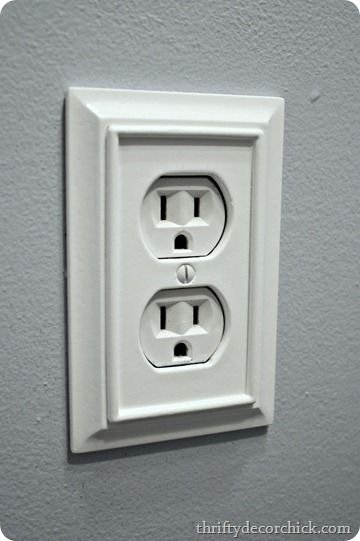outlet: (153, 189, 208, 254), (155, 299, 205, 359)
